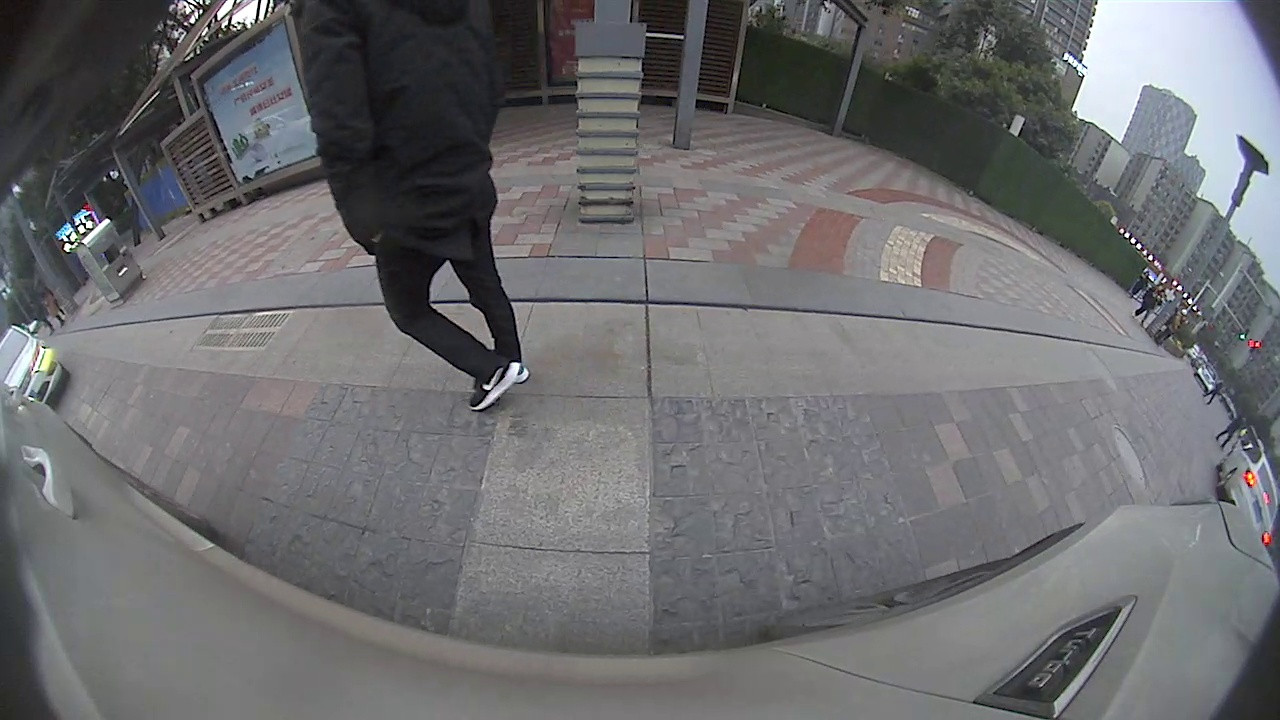car: (1217, 445, 1277, 545), (1, 323, 70, 409)
person: (281, 3, 528, 413)
